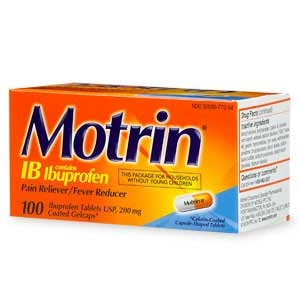grozi_18: (8, 81, 292, 238)
